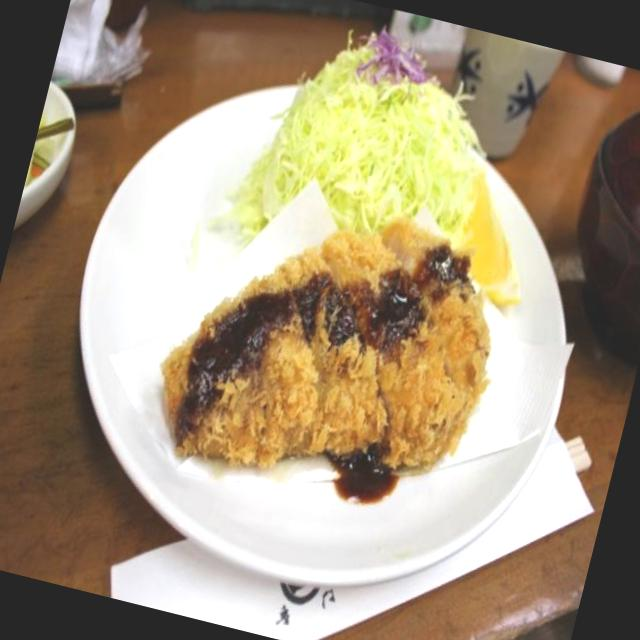Green Salad: (262, 8, 514, 240)
